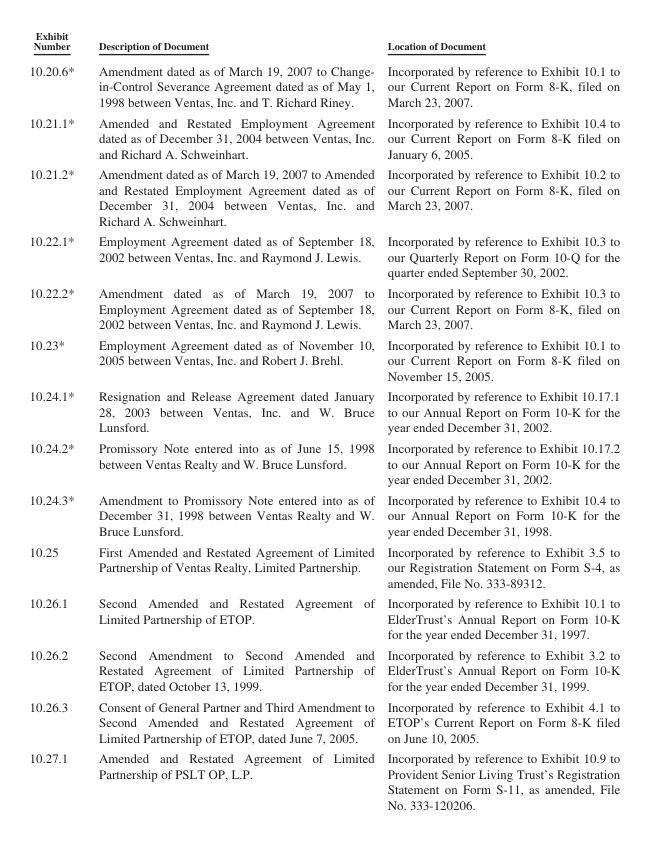table: (28, 29, 619, 811)
table column: (85, 29, 380, 811), (380, 29, 619, 811), (28, 29, 85, 811)
table column header: (28, 29, 619, 57)
table row: (28, 163, 619, 230), (28, 747, 619, 811), (28, 57, 619, 111), (28, 111, 619, 163), (28, 230, 619, 282), (28, 282, 619, 334), (28, 385, 619, 437), (28, 437, 619, 489), (28, 540, 619, 592), (28, 592, 619, 644), (28, 695, 619, 747), (28, 334, 619, 385), (28, 489, 619, 540), (28, 644, 619, 695), (28, 29, 619, 57)
